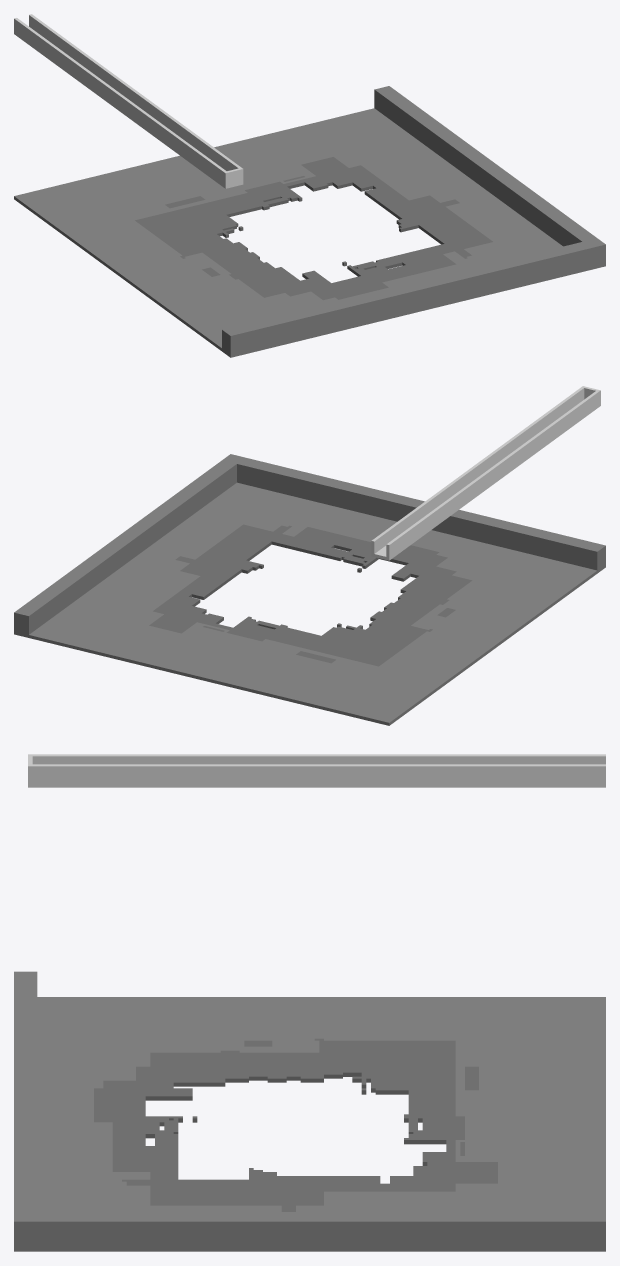
File: 4x2 roof (des)-1.obj
3 views of the same model, one above another, from view 1: azimuth 30°, elevation 25°; view 2: azimuth 150°, elevation 25°; view 3: azimuth 270°, elevation 25° (orthographic). The views are drawn at different scales.
Visible parts, largest first — view 1: 4x2 roof (des)-1; view 2: 4x2 roof (des)-1; view 3: 4x2 roof (des)-1.
Boxes of the visible parts, x1,y1,x2,y2 form: 4x2 roof (des)-1: [14, 14, 605, 357]; 4x2 roof (des)-1: [14, 386, 605, 725]; 4x2 roof (des)-1: [14, 754, 605, 1251].
Size of the model in its own units: 126 by 58 by 126.
Materials: 1 (1 with a texture image).
